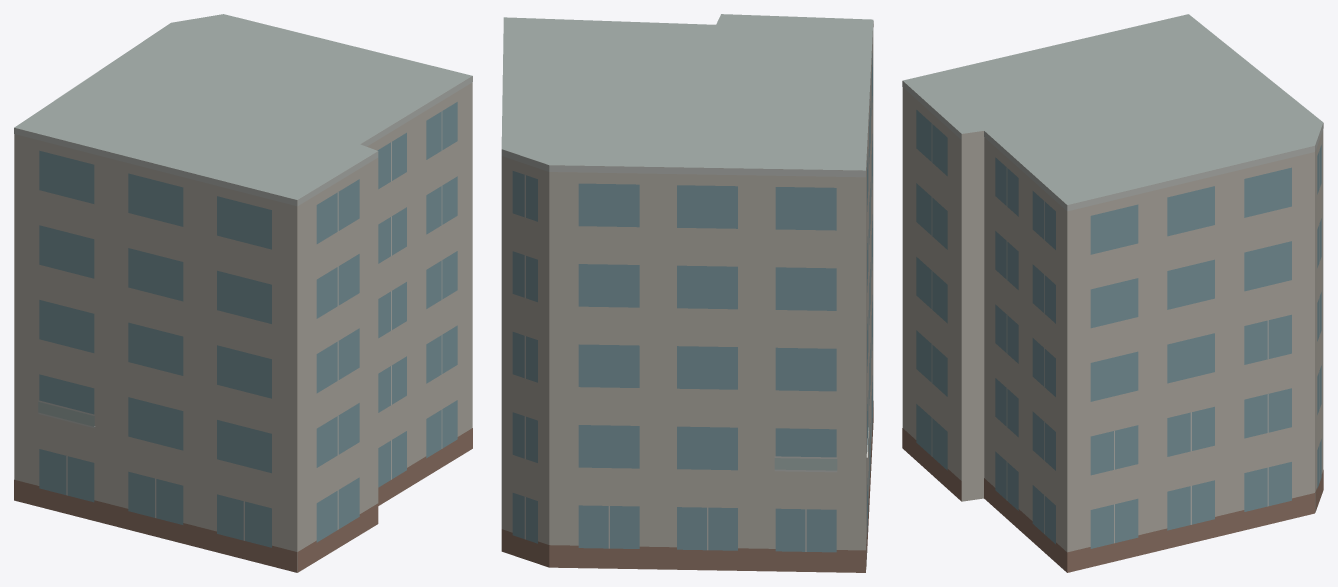
File: survey-upis-32744574.glb
The picture shows the model from 3 angles, left to right: view 1: azimuth 30°, elevation 25°; view 2: azimuth 150°, elevation 25°; view 3: azimuth 270°, elevation 25°; orthographic projection. The views are drawn at different scales.
Parts seen in each view (by area): view 1: survey-upis-32744574.tmp; view 2: survey-upis-32744574.tmp; view 3: survey-upis-32744574.tmp.
Boxes of the visible parts, left/top/right/bottom form: survey-upis-32744574.tmp: left=14, top=14, right=472, bottom=572; survey-upis-32744574.tmp: left=501, top=14, right=873, bottom=572; survey-upis-32744574.tmp: left=902, top=14, right=1323, bottom=572.
Bounding box in the file's own units: 16.06 × 14.4 × 14.95.
